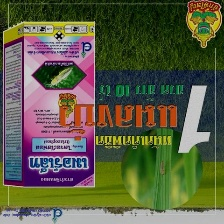carton: (0, 18, 97, 189)
